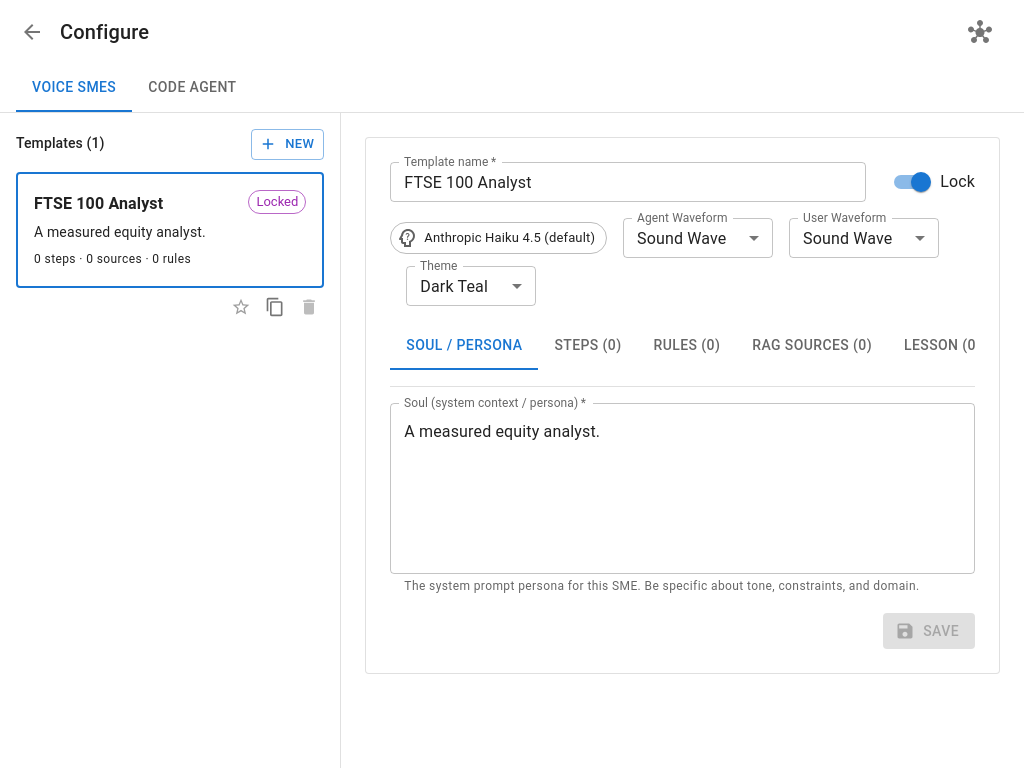
Scenario: ConfigPage › switches to the Code Agent tab and renders AgentConfigEditor
Step 1. Click the tab "Code Agent" → [192, 88], box [132,64,252,112]
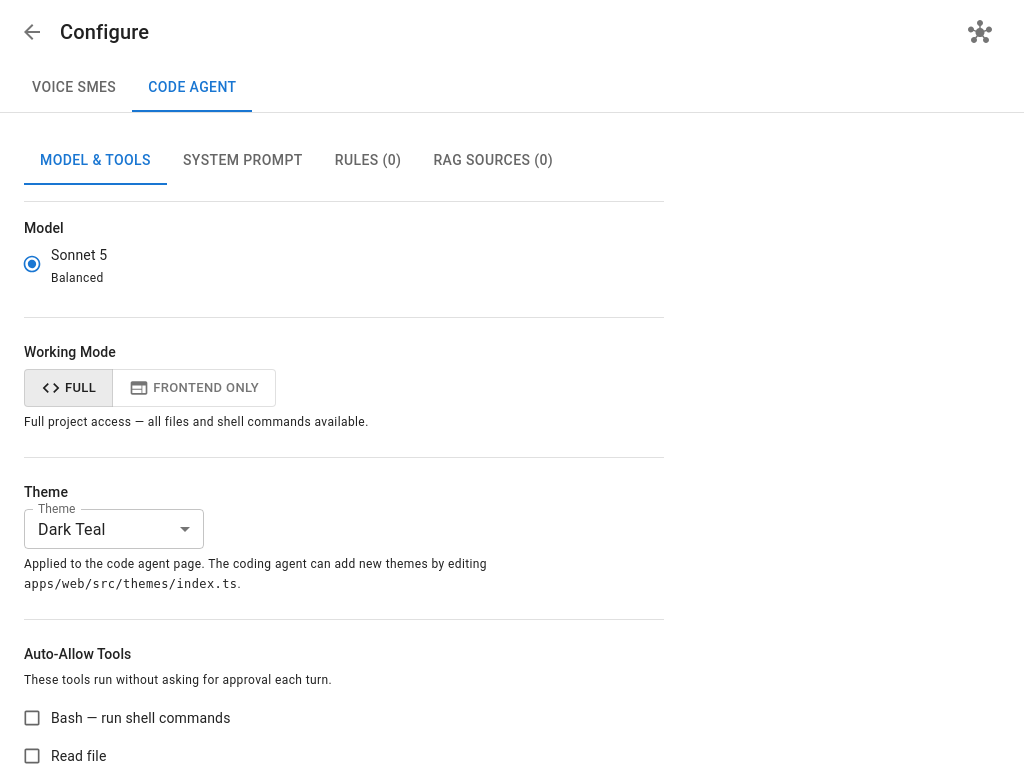
Now the heading "Model" is shown, box [24,220,64,236]
